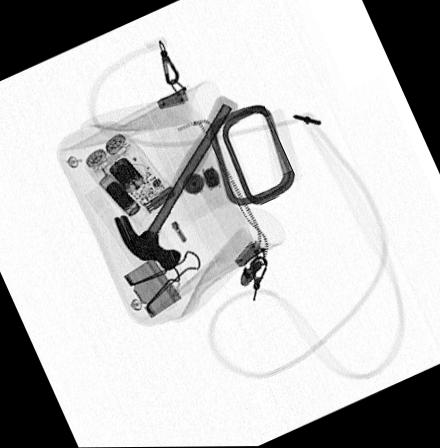Hammer: (112, 95, 238, 272)
